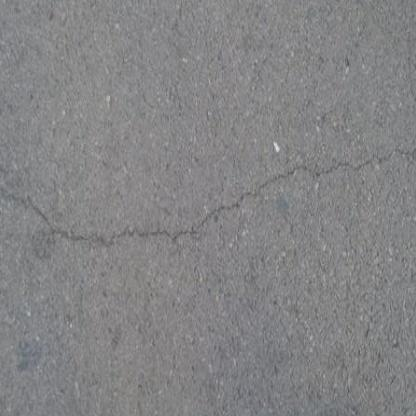Cracks: (0, 144, 416, 247)
